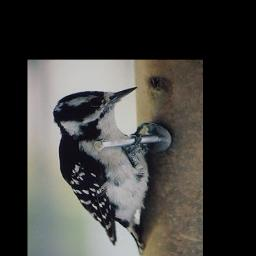Woodpecker: (52, 86, 156, 255)
